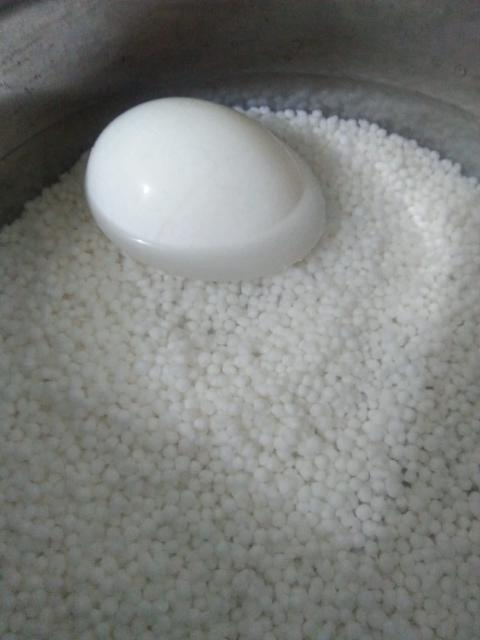Sano: (85, 95, 325, 277)
